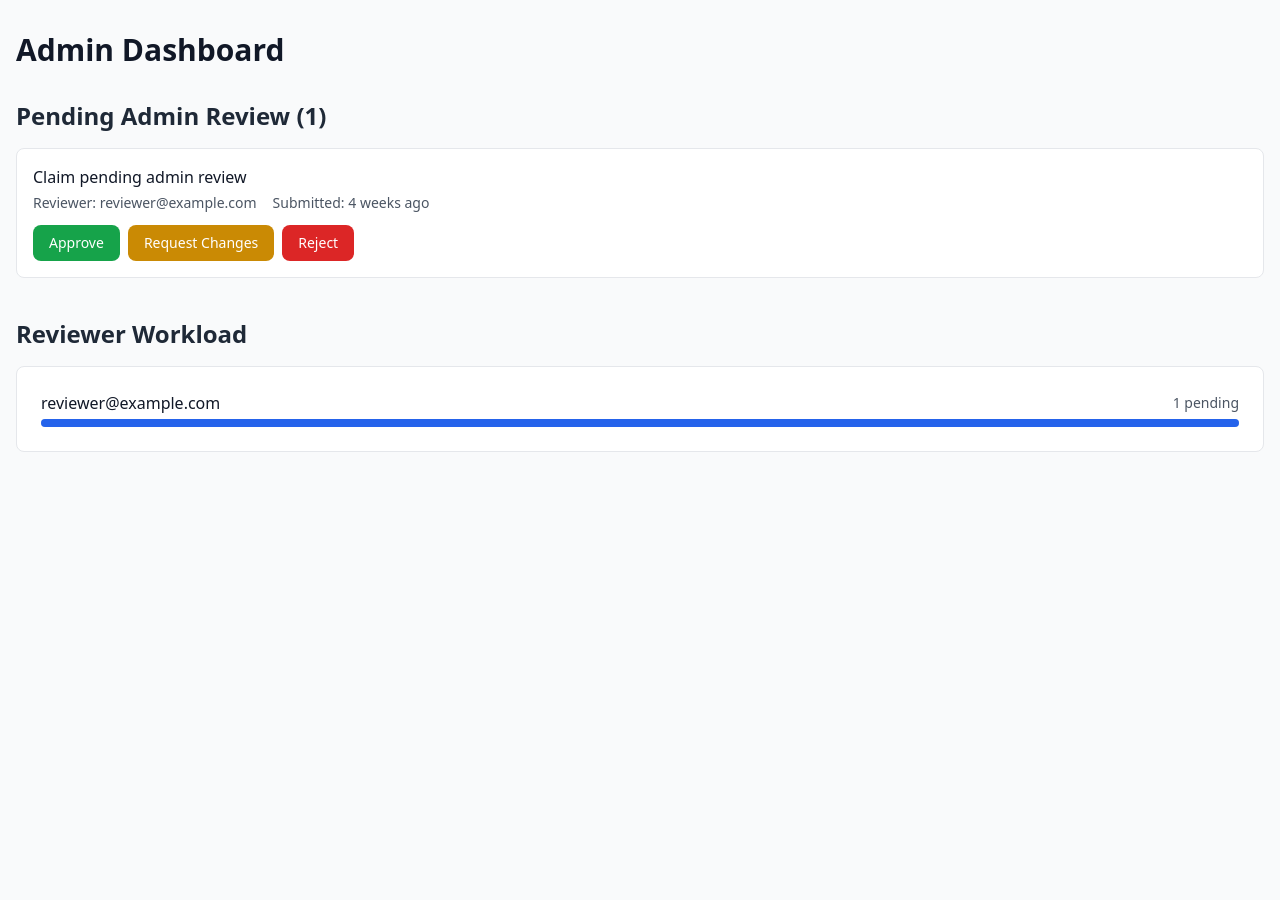
Scenario: Admin Dashboard - TDD › Action Modals › should open approve modal when Approve button clicked
The width and height of the screenshot is (1280, 900).
Click the button "Approve" at coordinates (76, 243), box [33, 225, 120, 261]
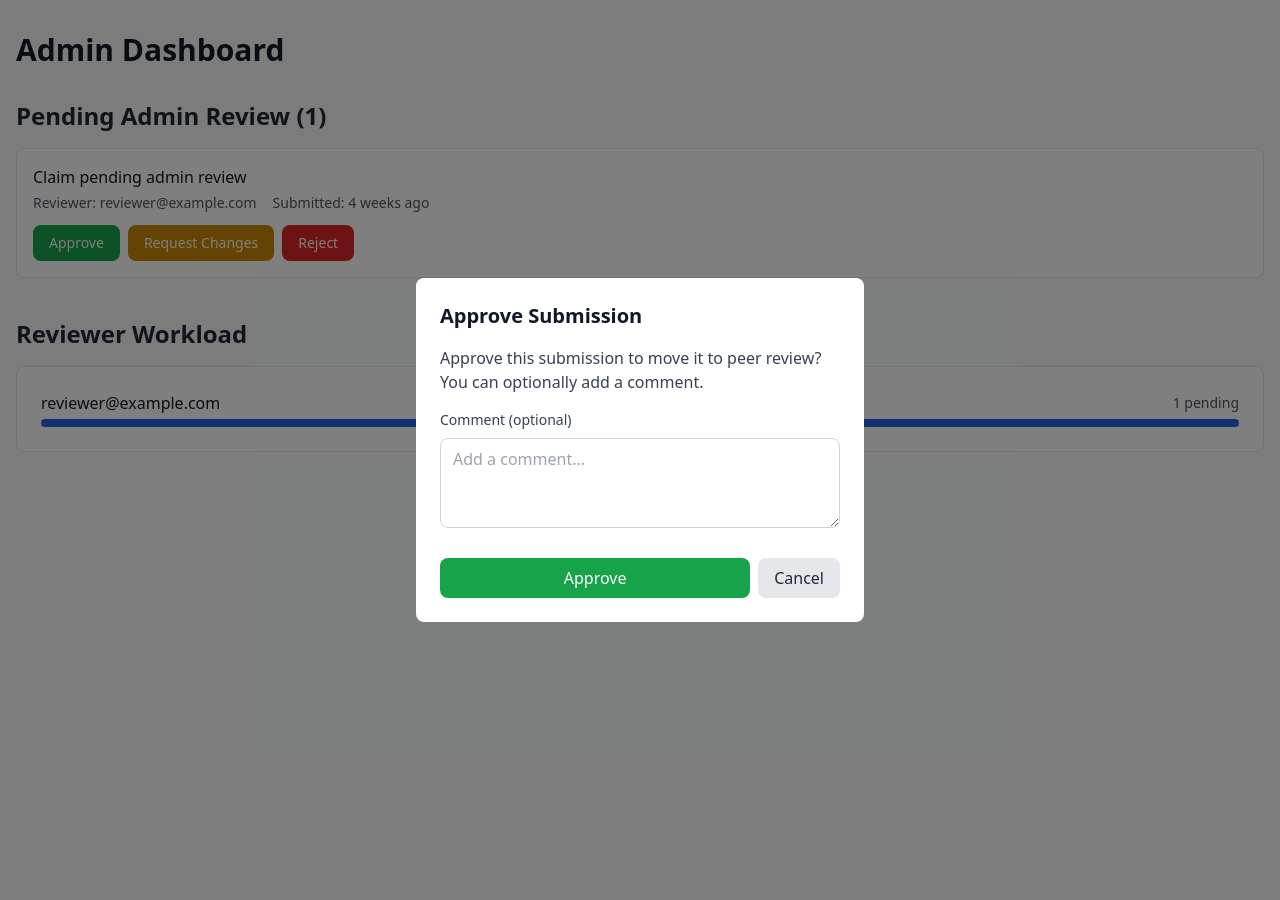
Check: the heading "Approve Submission" is shown, box [440, 302, 642, 329]
